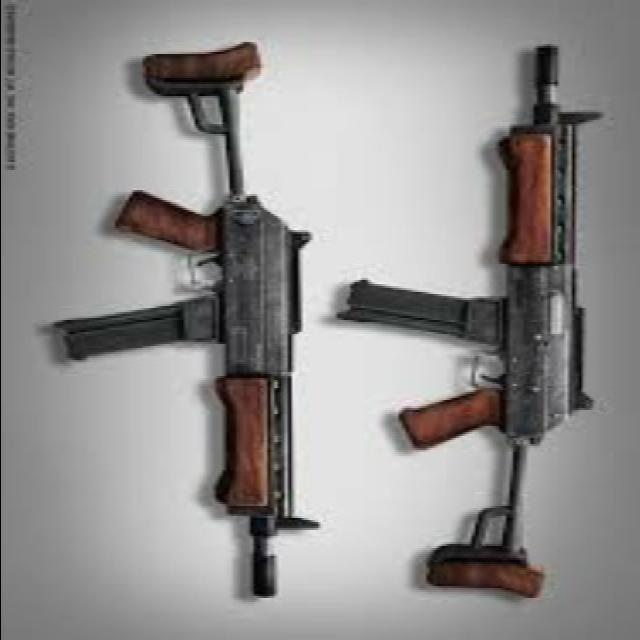rifle: (337, 41, 629, 631), (54, 43, 330, 613)
